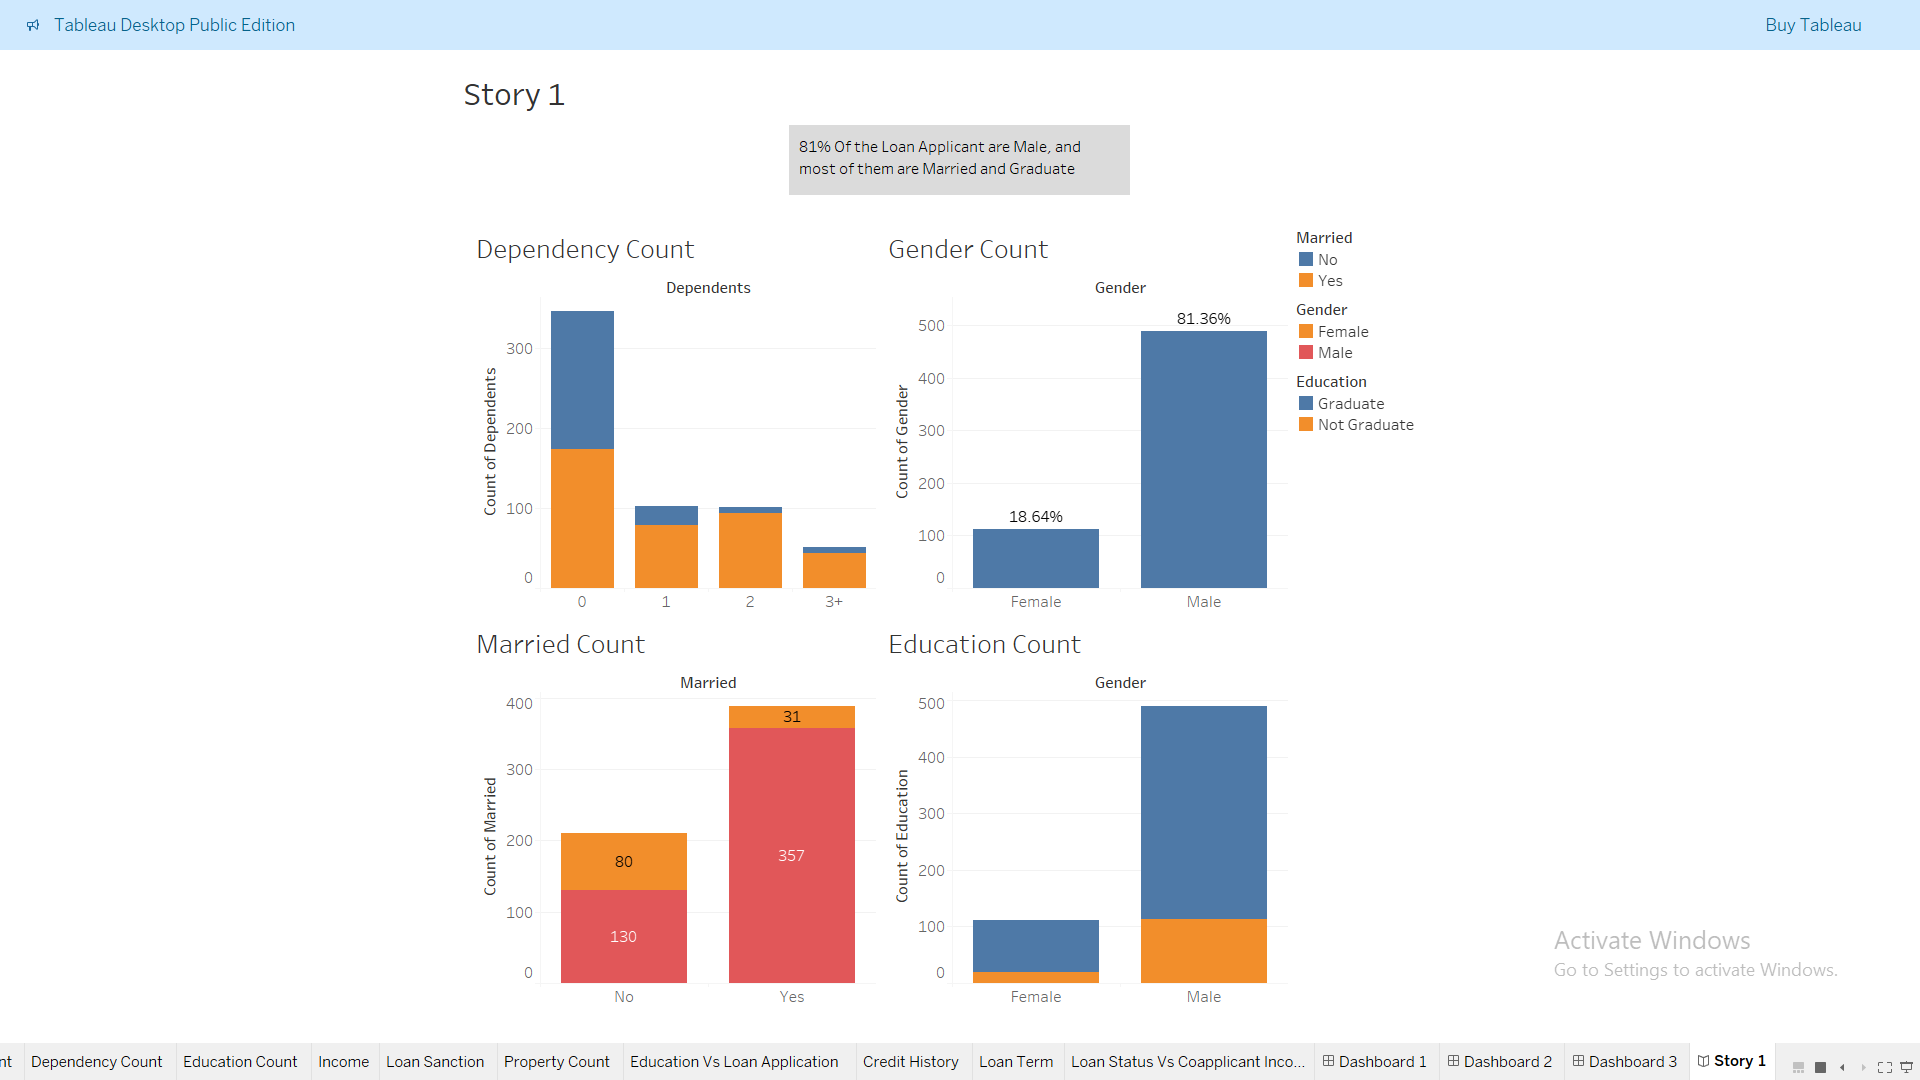

The page's visual inventory and layout, read from the dashboard file:
{"tool":"tableau","page":{"name":"Dashboard 1","canvas":[1000,1000],"units":"permille","ordinal":0},"visuals":[{"type":"worksheet","title":"Dependency Count","mark":"Automatic","rows":["Dependents"],"cols":["Dependents"],"box":[4.8,9.9,446.9,490.1]},{"type":"worksheet","title":"Gender Count","mark":"Automatic","rows":["Gender"],"cols":["Gender"],"box":[451.7,9.9,446.9,490.1]},{"type":"legend","title":"Dependency Count","param":"[federated.0xjg1av01pkykz1cuj4hv1cmy79k].[none:Married:nk]","box":[898.6,9.9,96.6,88.8]},{"type":"legend","title":"Married Count","param":"[federated.0xjg1av01pkykz1cuj4hv1cmy79k].[none:Gender:nk]","box":[898.6,98.6,96.6,88.8]},{"type":"legend","title":"Education Count","param":"[federated.0xjg1av01pkykz1cuj4hv1cmy79k].[none:Education:nk]","box":[898.6,187.4,96.6,88.8]},{"type":"worksheet","title":"Married Count","mark":"Automatic","rows":["Married"],"cols":["Married"],"box":[4.8,500,446.9,490.1]},{"type":"worksheet","title":"Education Count","mark":"Automatic","rows":["Education"],"cols":["Gender"],"box":[451.7,500,446.9,490.1]}]}

Visuals, with their boxes on the dashboard's canvas, which has no fixed pixel size, in thousandths of its width and height (x1, y1, x2, y2). These are canvas units, not pixel positions in the 1920x1080 screenshot, which may show the page scaled, cropped or inside an application window:
"Dependency Count" worksheet: <region>5, 10, 452, 500</region>
"Gender Count" worksheet: <region>452, 10, 899, 500</region>
"Dependency Count" legend: <region>899, 10, 995, 99</region>
"Married Count" legend: <region>899, 99, 995, 187</region>
"Education Count" legend: <region>899, 187, 995, 276</region>
"Married Count" worksheet: <region>5, 500, 452, 990</region>
"Education Count" worksheet: <region>452, 500, 899, 990</region>
